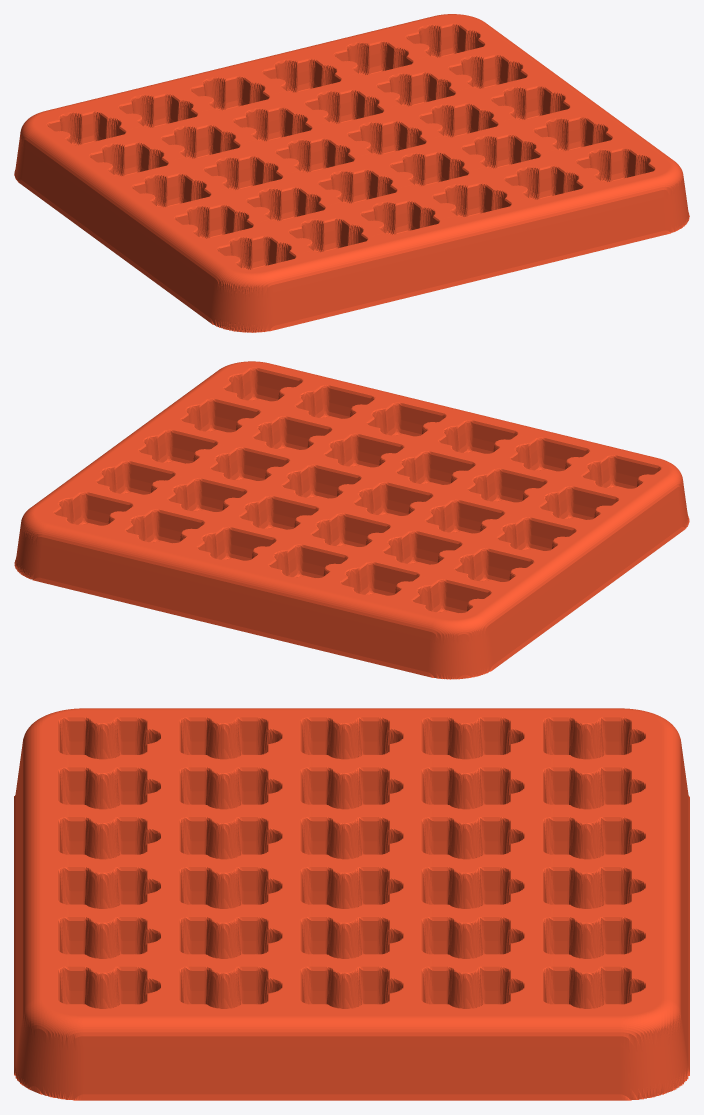
Rendered from mold.glb.
3 renders of one model, top to bottom at view 1: azimuth 30°, elevation 25°; view 2: azimuth 150°, elevation 25°; view 3: azimuth 270°, elevation 25°, orthographic. The views are drawn at different scales.
Parts seen in each view (by area): view 1: geometry_0; view 2: geometry_0; view 3: geometry_0.
Part boxes in pixels (x1,y1,x2,y2): geometry_0: (14, 14, 689, 332); geometry_0: (14, 361, 689, 679); geometry_0: (14, 708, 689, 1100).
Size of the model in its own units: 0.1016 by 0.0105 by 0.0882.
